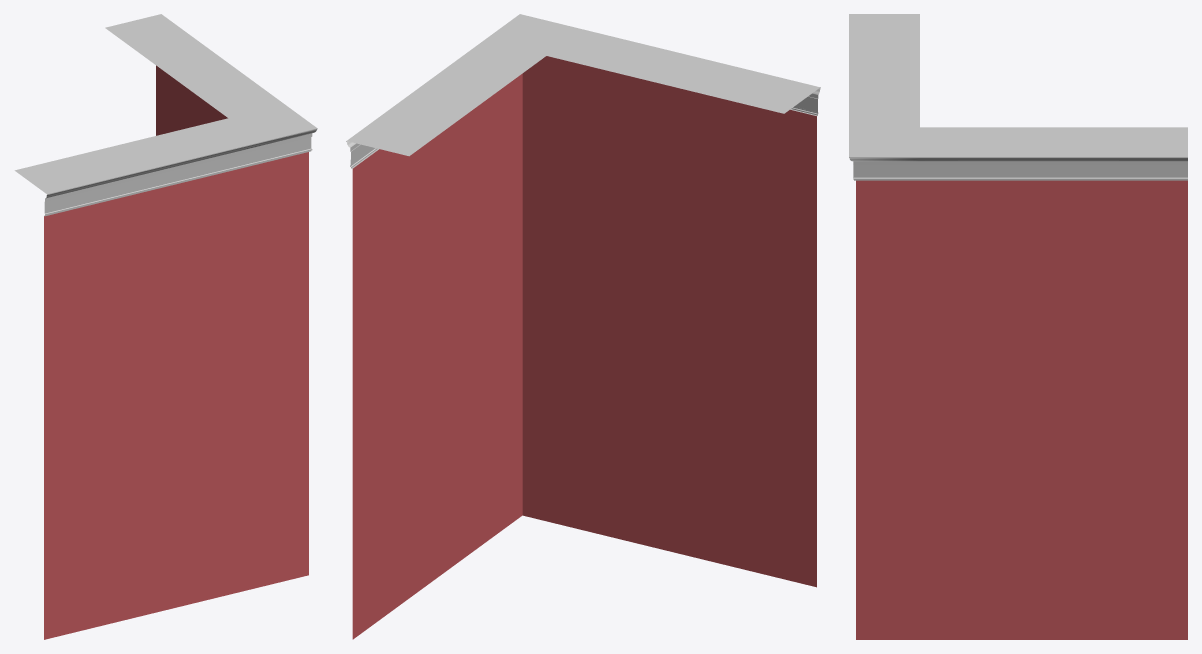
The model's file is station_wall_2_corner.fbx.
The picture shows the model from 3 angles, left to right: view 1: azimuth 30°, elevation 25°; view 2: azimuth 150°, elevation 25°; view 3: azimuth 270°, elevation 25°; orthographic projection. The views are drawn at different scales.
Visible parts, largest first — view 1: wall_2_corner; view 2: wall_2_corner; view 3: wall_2_corner.
Boxes of the visible parts, <box> form: wall_2_corner: <box>14,14,317,639</box>; wall_2_corner: <box>346,14,820,639</box>; wall_2_corner: <box>849,14,1187,639</box>.
Bounding box in the file's own units: 2.28 × 3.6 × 2.28.
